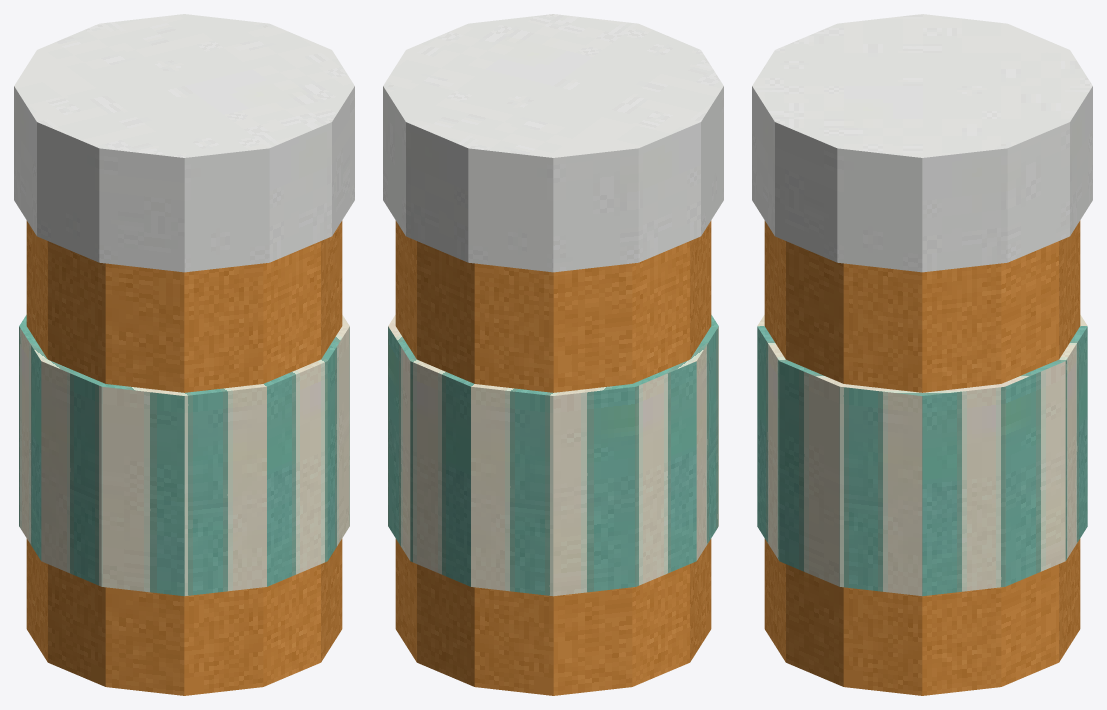
3 renders of one model, left to right at view 1: azimuth 30°, elevation 25°; view 2: azimuth 150°, elevation 25°; view 3: azimuth 270°, elevation 25°, orthographic.
Visible parts, largest first — view 1: painkillers; view 2: painkillers; view 3: painkillers.
Part boxes in pixels (x1,y1,x2,y2): painkillers: (14,14,354,695); painkillers: (383,14,723,695); painkillers: (752,14,1092,695).
Size of the model in its own units: 0.054 by 0.095 by 0.054.
Materials: 3 (3 with a texture image).
